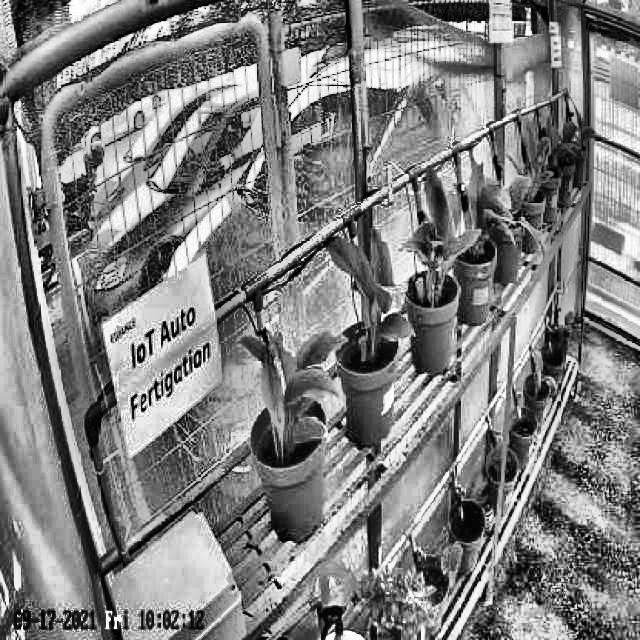plants: (237, 332, 348, 443), (324, 230, 416, 348), (400, 164, 468, 296), (467, 152, 505, 258), (521, 118, 547, 198)
